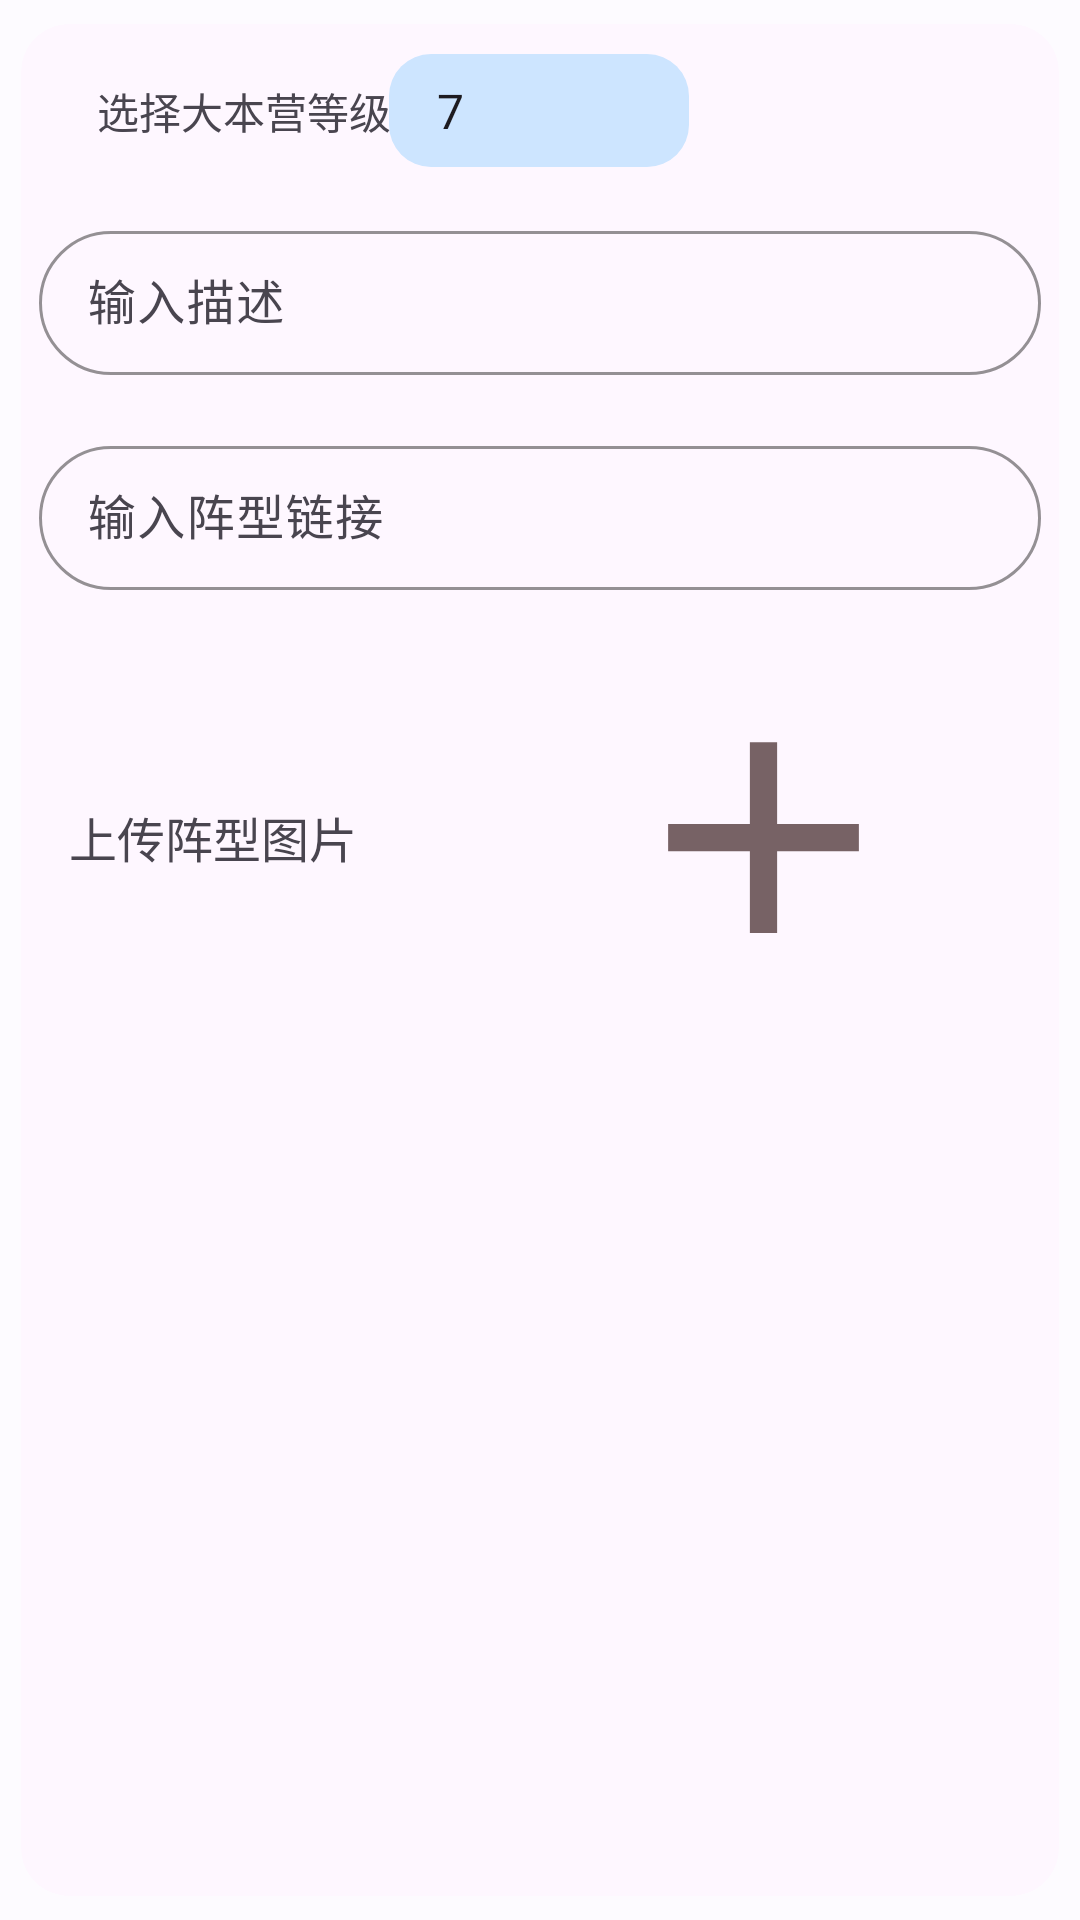

Named icons in this screenshot (1080px x 1920px) and their centers, (x,y):
add: (763,837)
